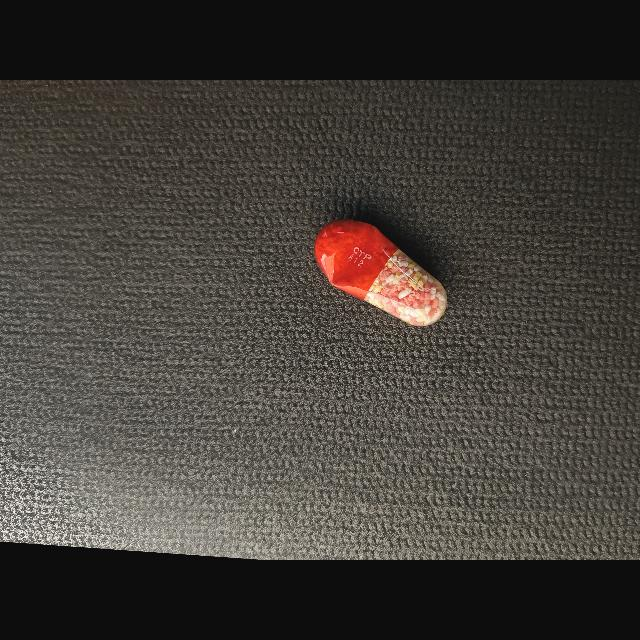Defective Capsule: (314, 219, 447, 327)
